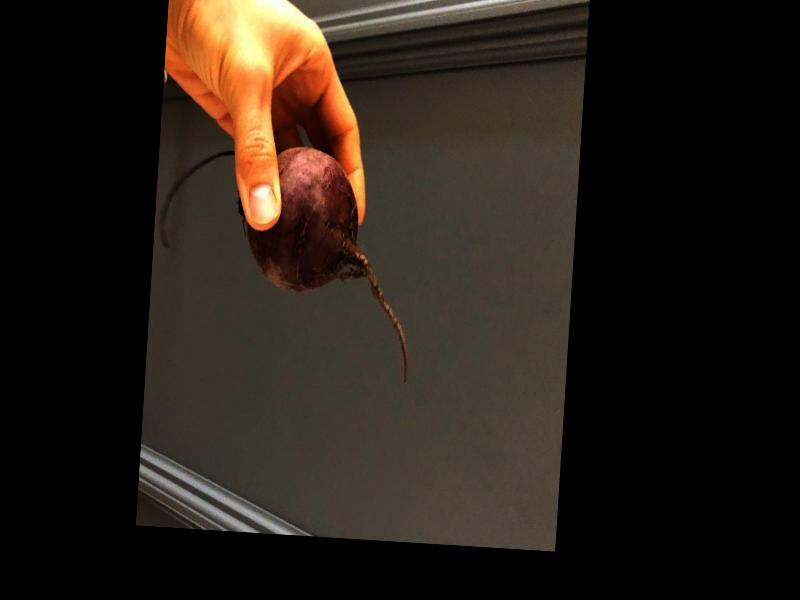Beet: (150, 139, 420, 386)
